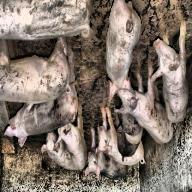boar: (0, 0, 190, 181)
